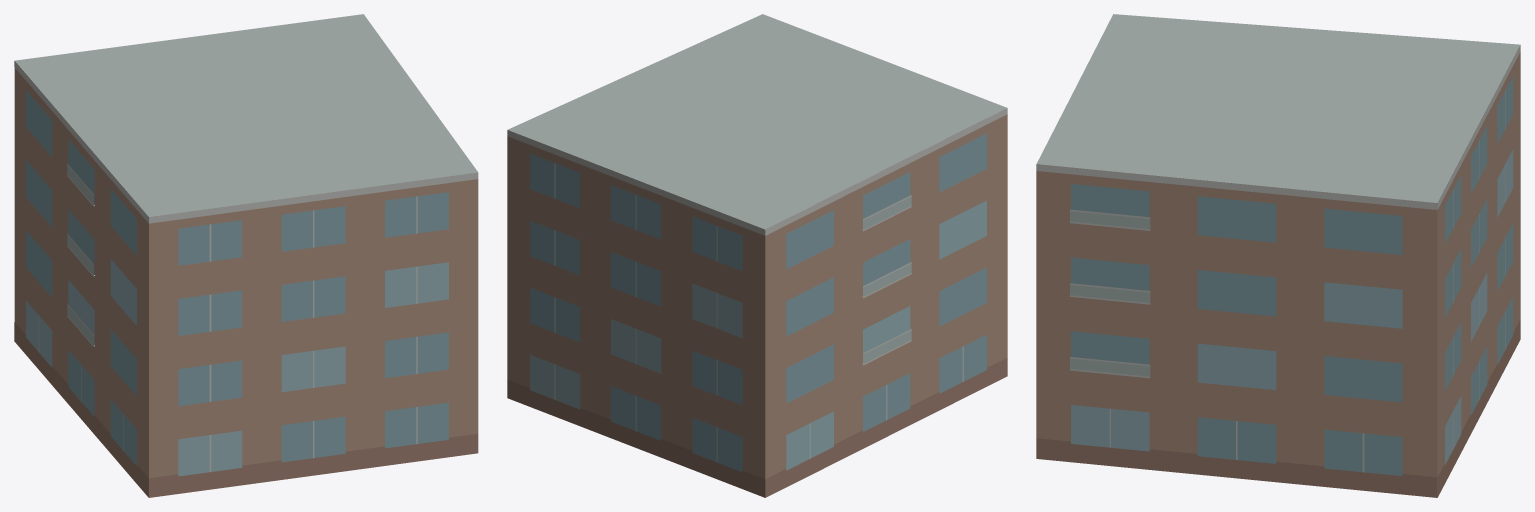
Rendered from survey-upis-32851082.glb.
3 views of the same model, side by side, from view 1: azimuth 30°, elevation 25°; view 2: azimuth 150°, elevation 25°; view 3: azimuth 270°, elevation 25° (orthographic). The views are drawn at different scales.
Visible parts, largest first — view 1: survey-upis-32851082.tmp; view 2: survey-upis-32851082.tmp; view 3: survey-upis-32851082.tmp.
Boxes of the visible parts, left/top/right/bottom form: survey-upis-32851082.tmp: left=14, top=14, right=478, bottom=497; survey-upis-32851082.tmp: left=507, top=14, right=1007, bottom=497; survey-upis-32851082.tmp: left=1036, top=14, right=1520, bottom=497.
Bounding box in the file's own units: 14.46 × 10.5 × 15.64.
